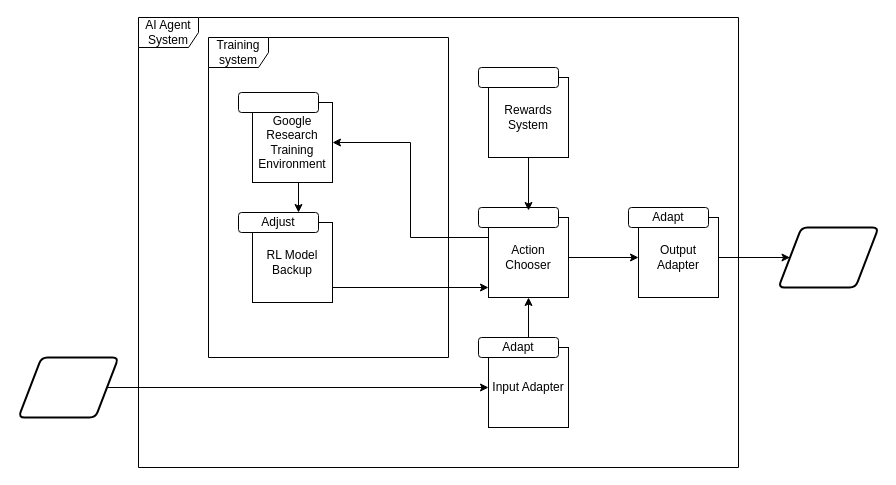
This 896x485 diagram has some shape labels left out. Each missing label, with the centre of its shape:
"Decide" belongs at point 518,217.
"Match Information" belongs at point 68,387.
"Player Action" belongs at point 828,257.
"Restrict" belongs at point 518,77.
"Train" belongs at point 278,102.
